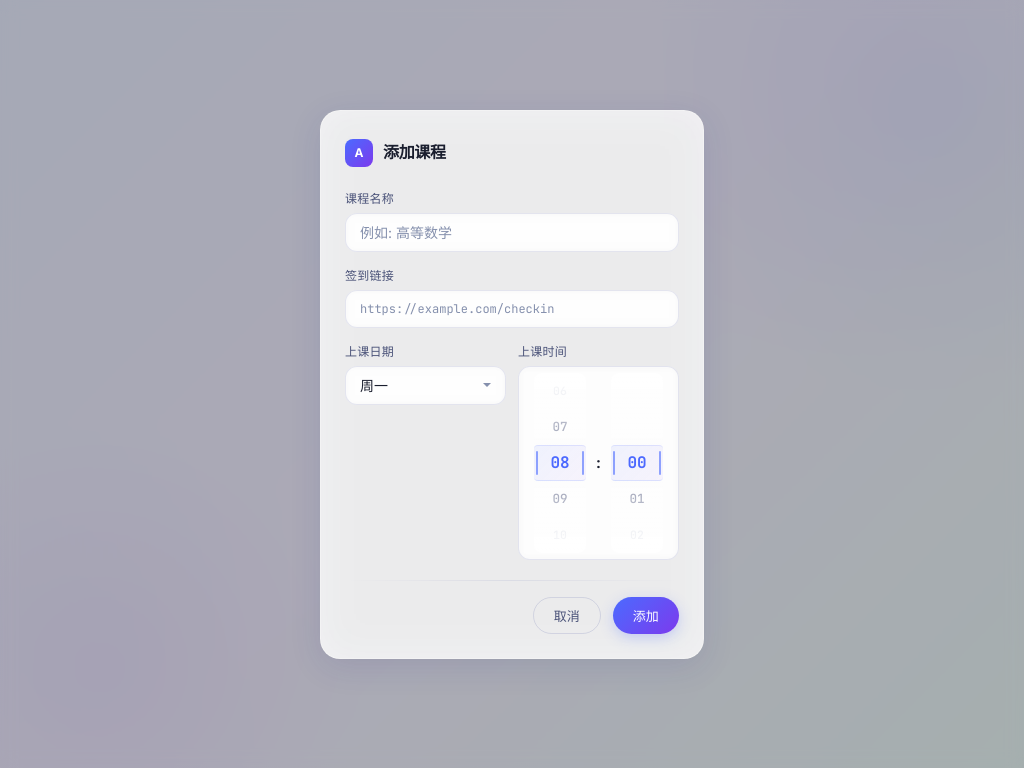
Scenario: CourseForm 组件 › 表单验证 › 签到链接为空时显示错误 "请输入签到链接"
# 先填写课程名称让名称验证通过
Type "高等数学" into the field with placeholder "例如: 高等数学".
click(512, 232); type("高等数学")  # box x1=345 y1=212 x2=679 y2=252
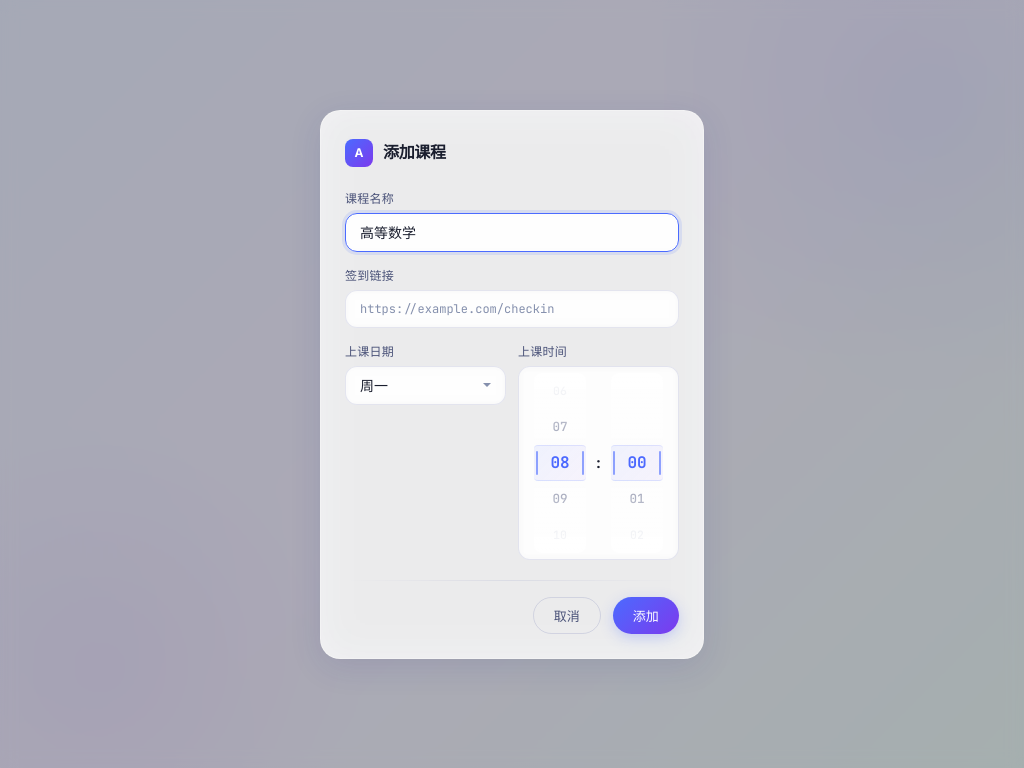
# 保持链接为空，点击添加
Click the button "添加".
click(646, 615)  # box x1=613 y1=596 x2=679 y2=634
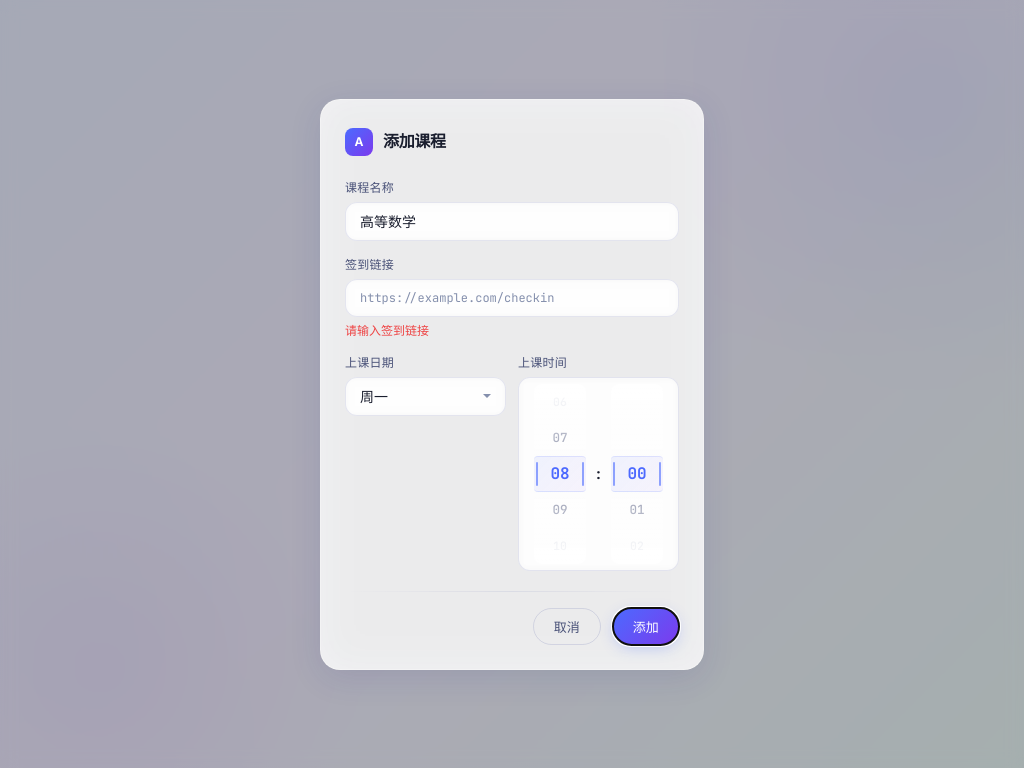
Expected: the text "请输入签到链接" is shown, x1=345 y1=322 x2=429 y2=338
